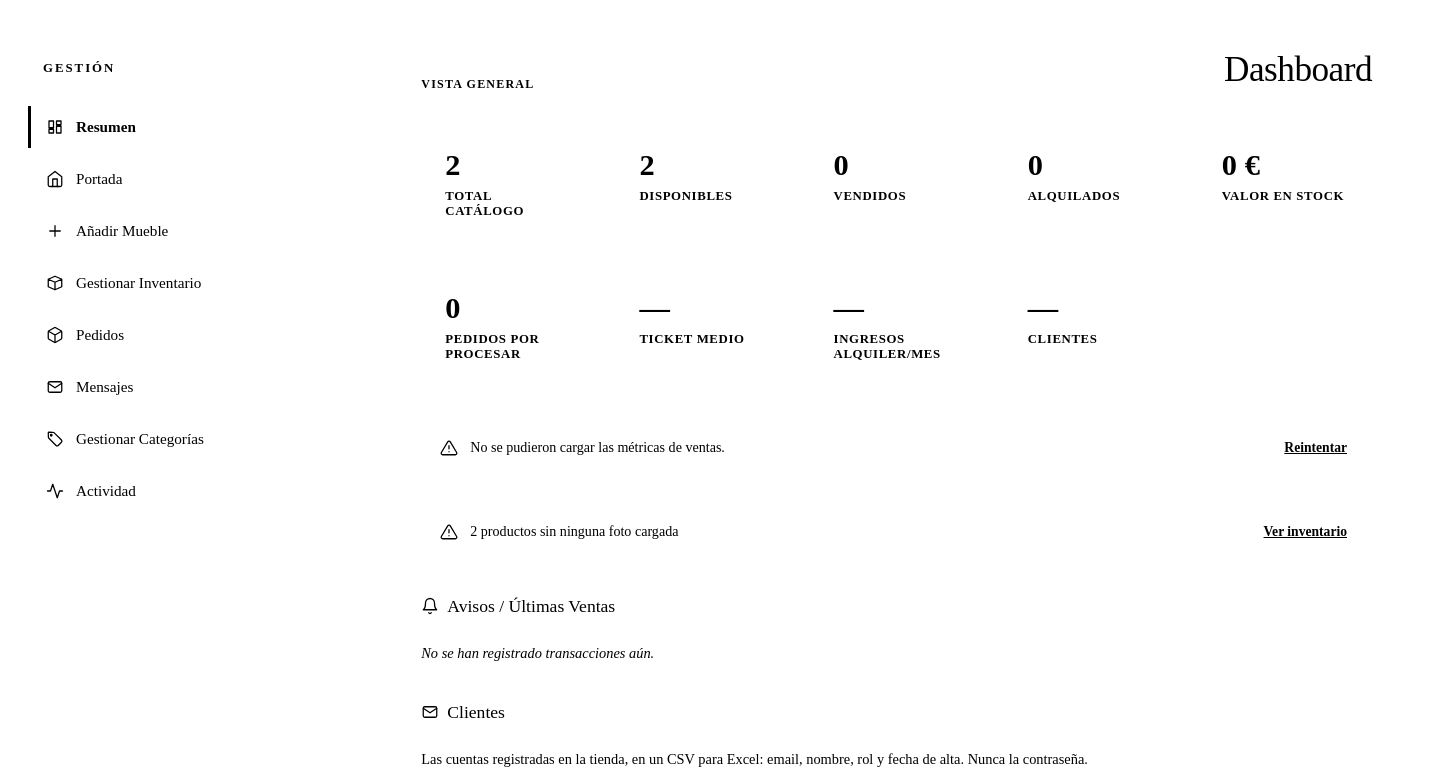
Test: Inventario — menú de acciones de la fila › al abrirlo: Duplicar, Imprimir etiqueta, una línea y Eliminar en rojo; el foco va a la primera
The width and height of the screenshot is (1440, 782).
Click the button "Gestionar Inventario": x=185, y=283 [28,262,341,304]
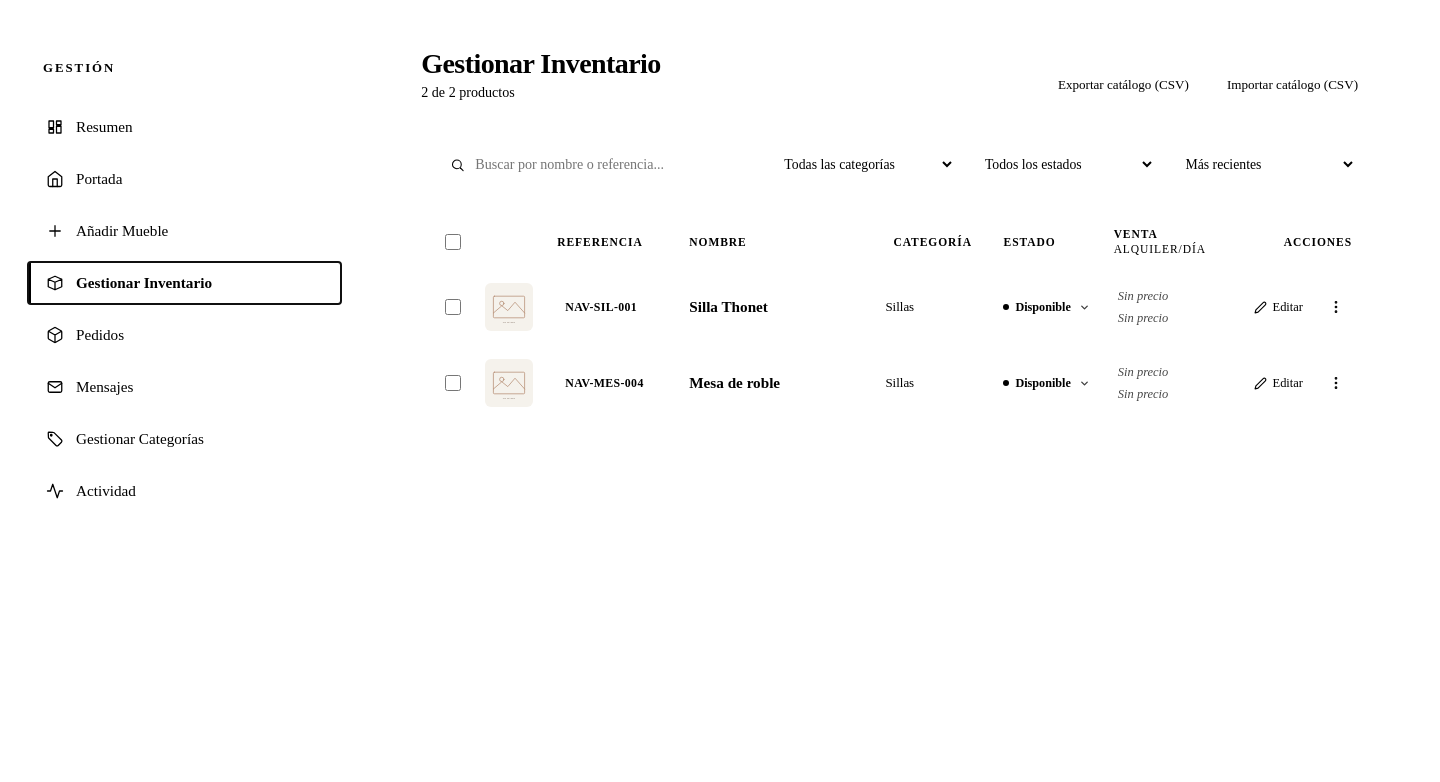
Click the button named "Más acciones de Silla Thonet": x=1336, y=307 [1320,293,1352,321]
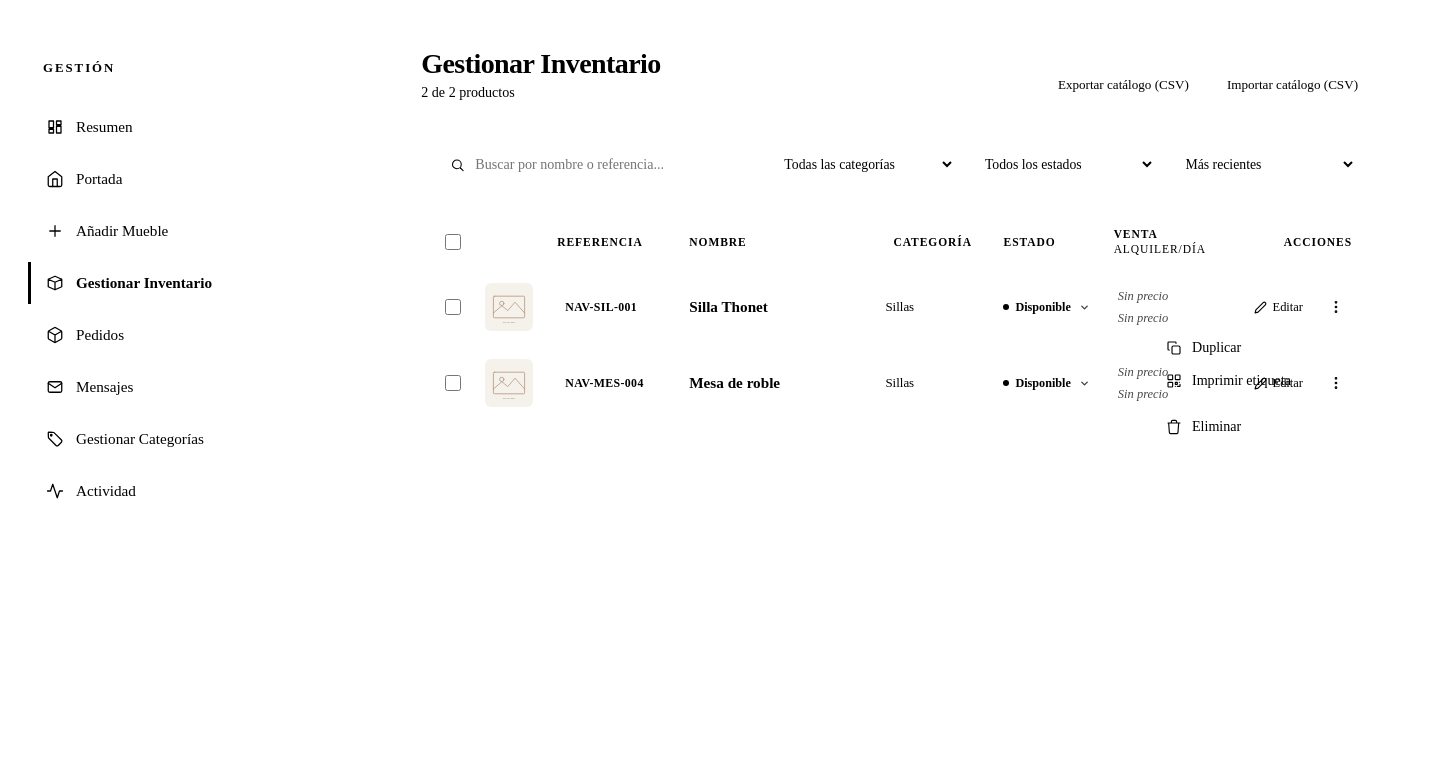
Now the menu items read "Duplicar", "Imprimir etiqueta", "Eliminar", in this order, box [1156,331,1346,364]; [1156,364,1346,397]; [1156,410,1346,443]
